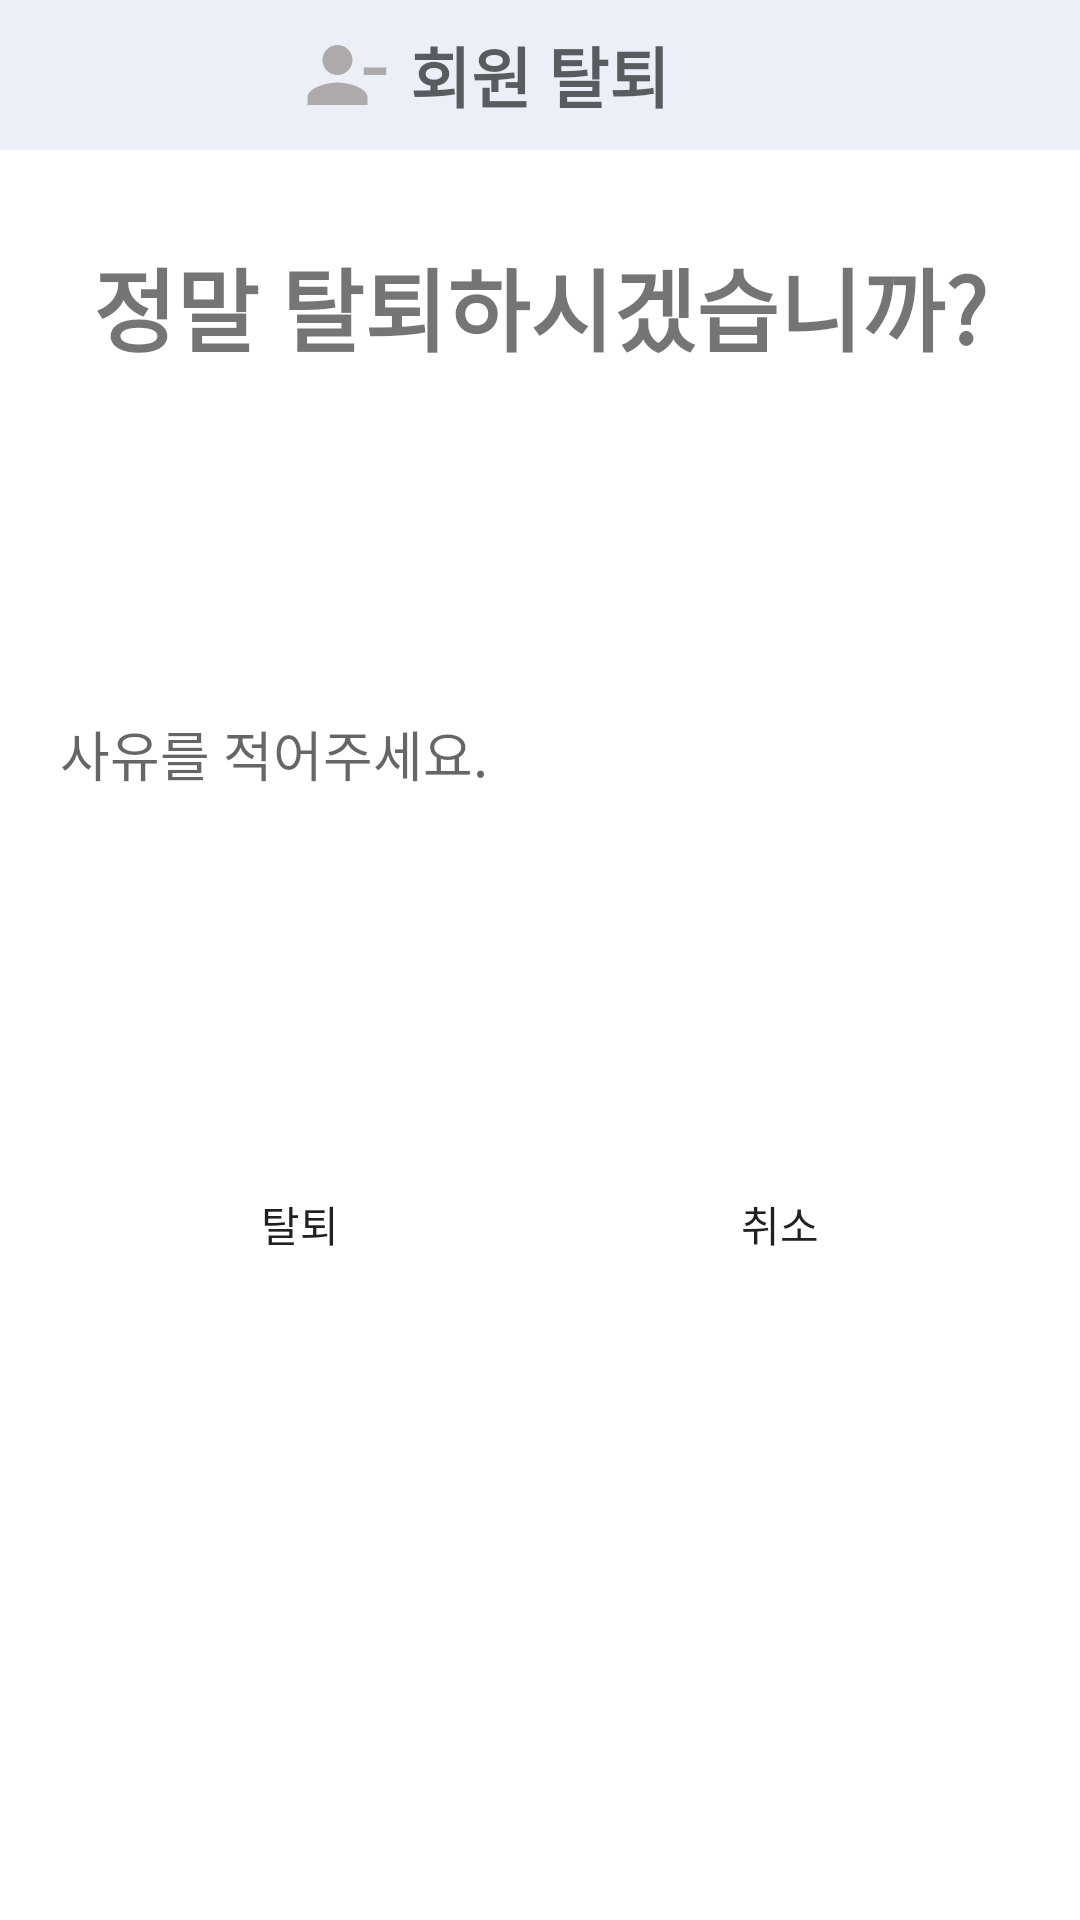

Icons on this 1080×1920 Android screen, each with its box as [x1, y1, x2, y2]:
person remove: [307, 45, 386, 105]
